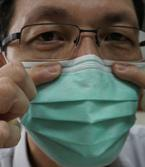with_mask: (1, 1, 145, 167)
